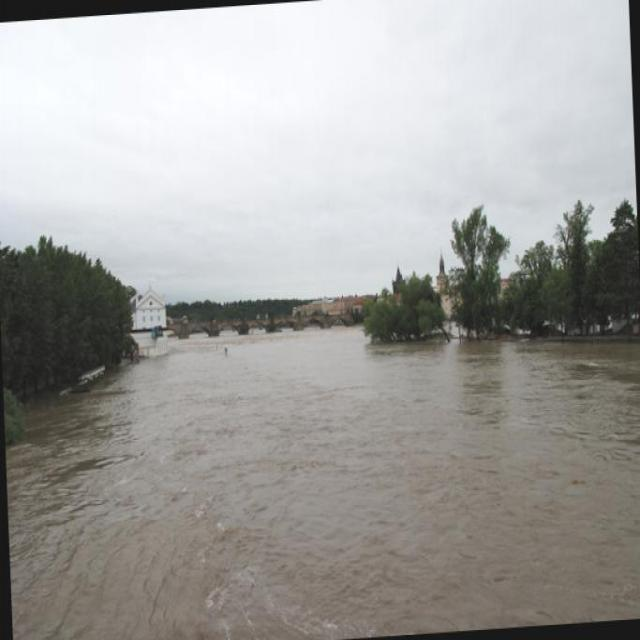flood: (5, 281, 639, 639)
